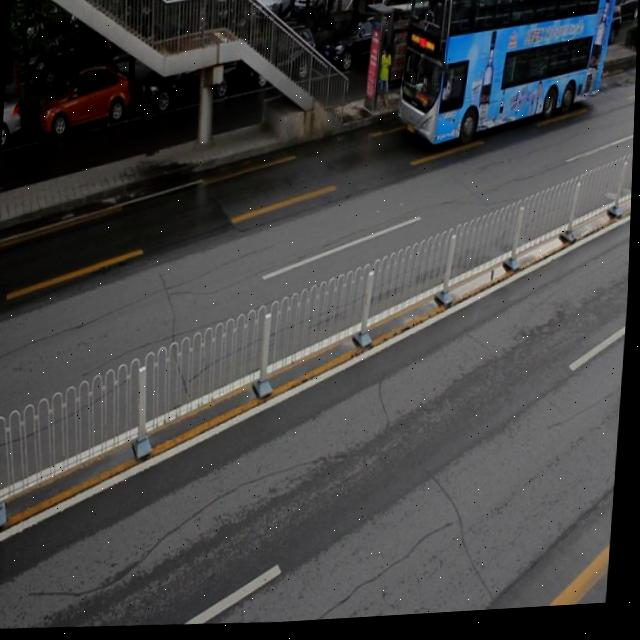car: (38, 64, 133, 142), (139, 50, 240, 117), (319, 16, 403, 85), (243, 28, 316, 93), (559, 9, 608, 67), (2, 89, 25, 148)
van: (395, 0, 617, 157)
